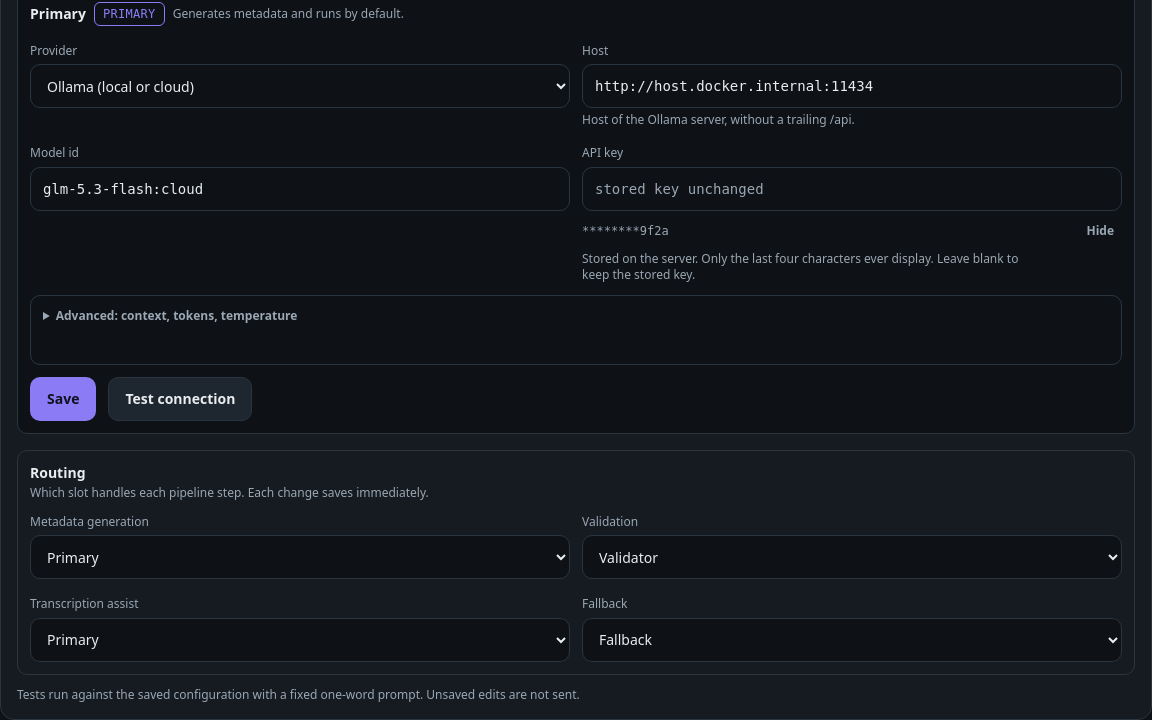
Test: LlmConnectionsSection › shows the measured latency and echoed model after a connection test
(page scrolled)
Click the button with aria-label "Test Primary connection" at {"x": 180, "y": 399}, box [108,377,252,421]
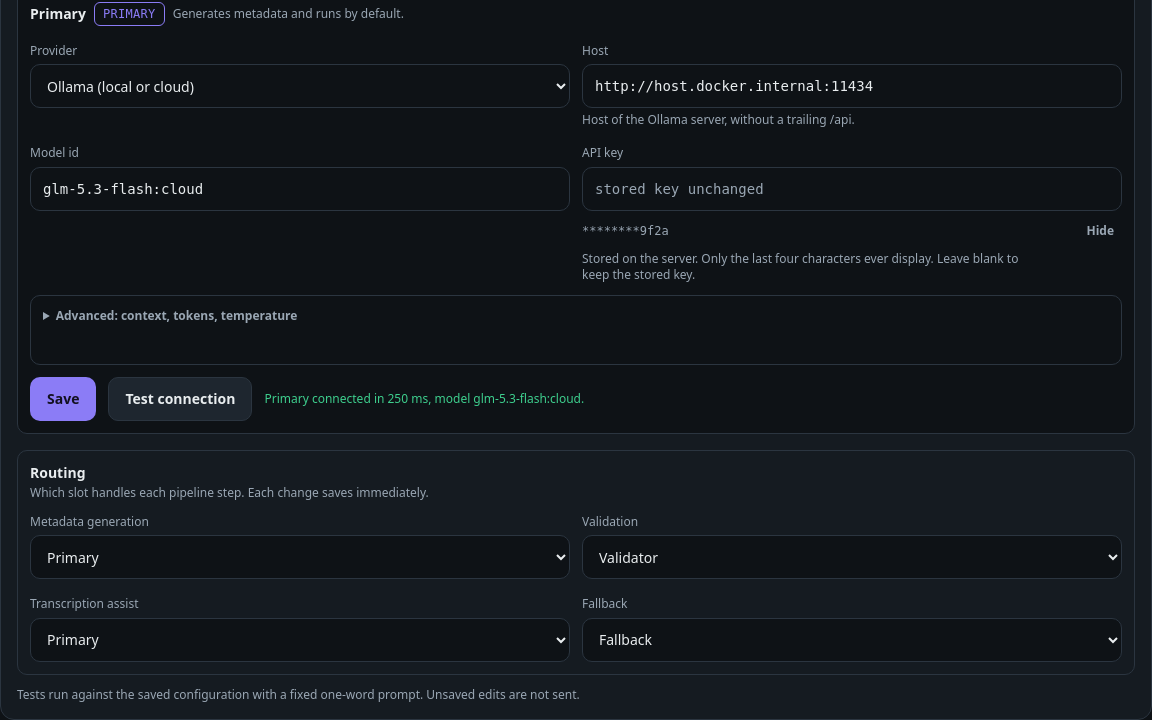
Result: the message shows "250 ms" at [264,390,584,407]
Result: the message shows "glm-5.3-flash:cloud" at [264,390,584,407]
